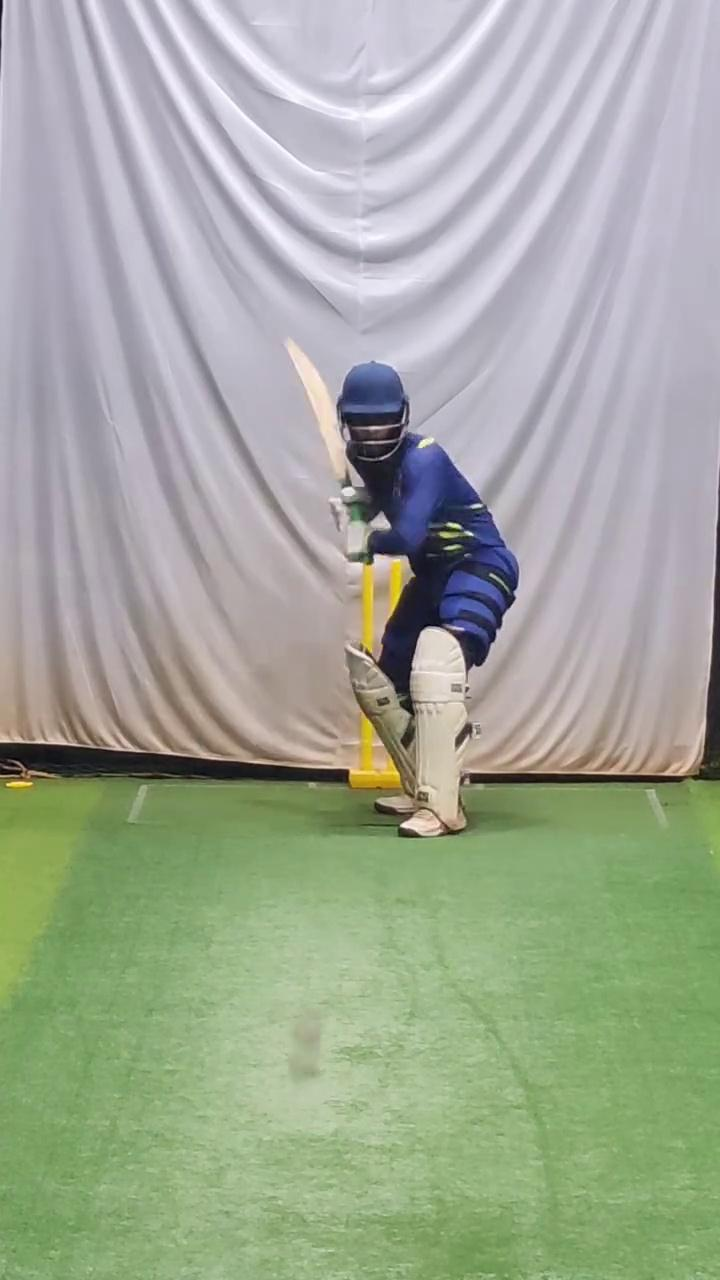bat: (284, 332, 351, 486)
